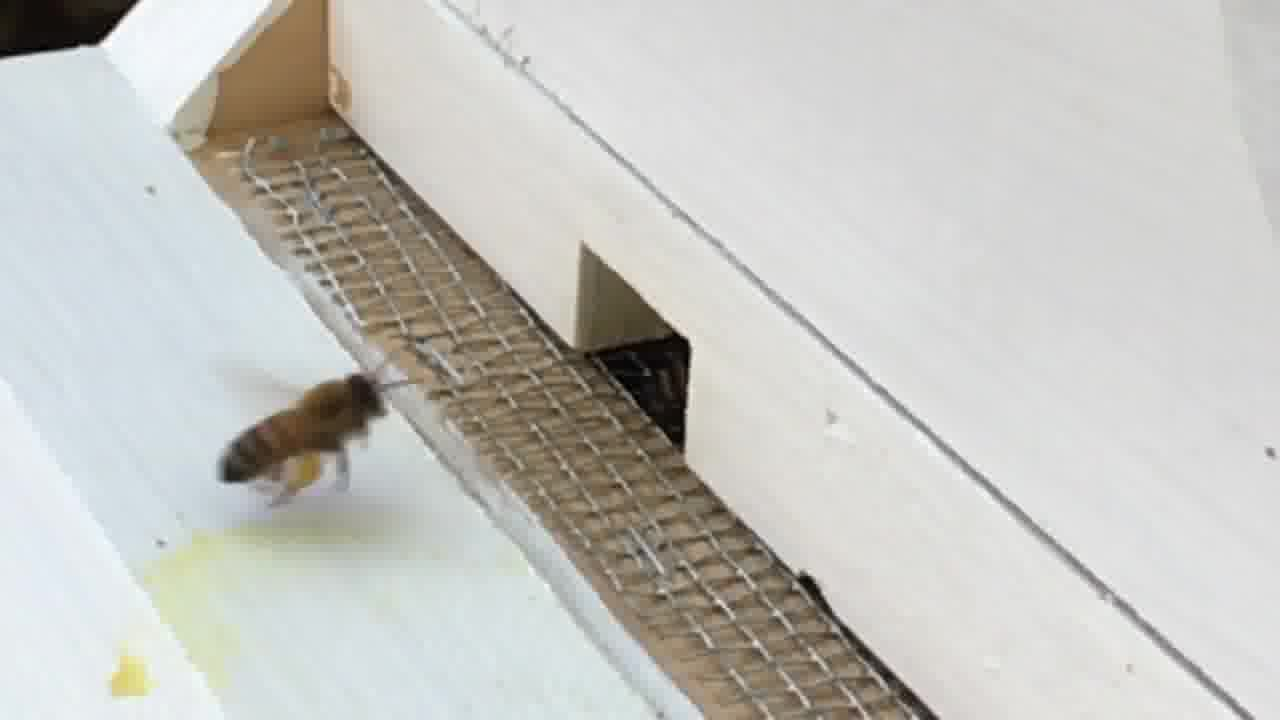pollen: (215, 371, 397, 511)
